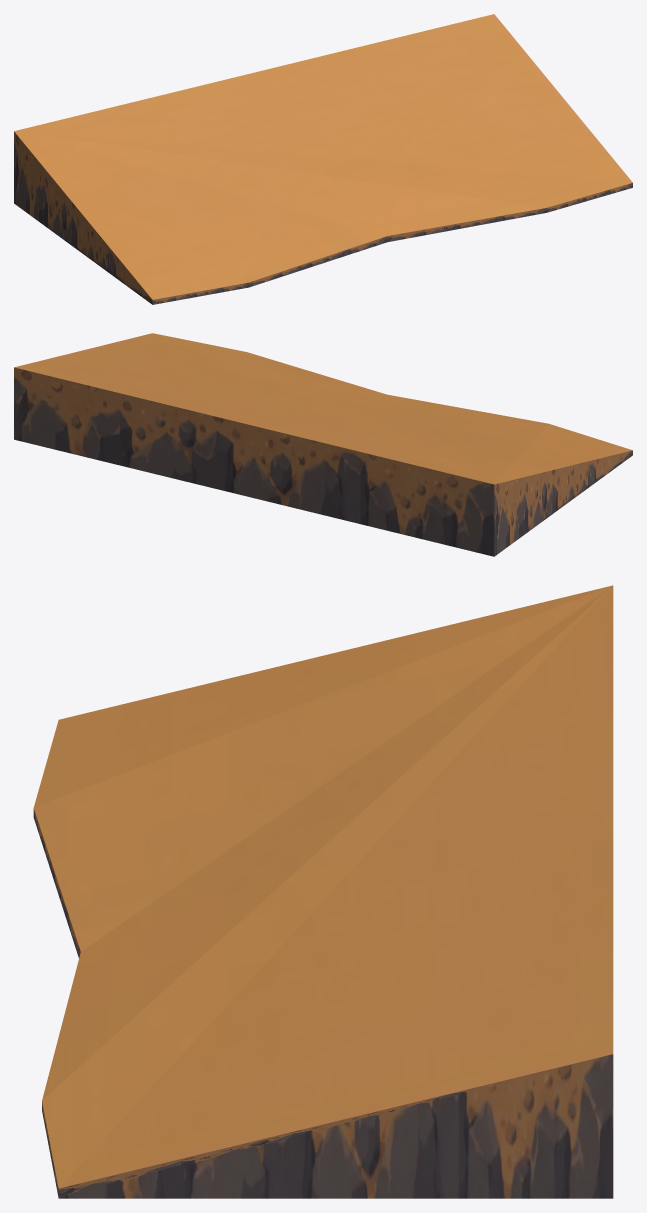
Rendered from SM_RC_Terrain_CliffBottomTransition_8x4.gltf.
3 renders of one model, top to bottom at view 1: azimuth 30°, elevation 25°; view 2: azimuth 150°, elevation 25°; view 3: azimuth 270°, elevation 25°, orthographic. The views are drawn at different scales.
Parts seen in each view (by area): view 1: SM_RC_Terrain_CliffBottomTransition_8x4; view 2: SM_RC_Terrain_CliffBottomTransition_8x4; view 3: SM_RC_Terrain_CliffBottomTransition_8x4.
Boxes of the visible parts, x1,y1,x2,y2 form: SM_RC_Terrain_CliffBottomTransition_8x4: (14,14,632,304); SM_RC_Terrain_CliffBottomTransition_8x4: (14,333,632,556); SM_RC_Terrain_CliffBottomTransition_8x4: (33,585,613,1198).
Bounding box in the file's own units: 8 × 1.15 × 4.18.
1 material, 1 textured.
